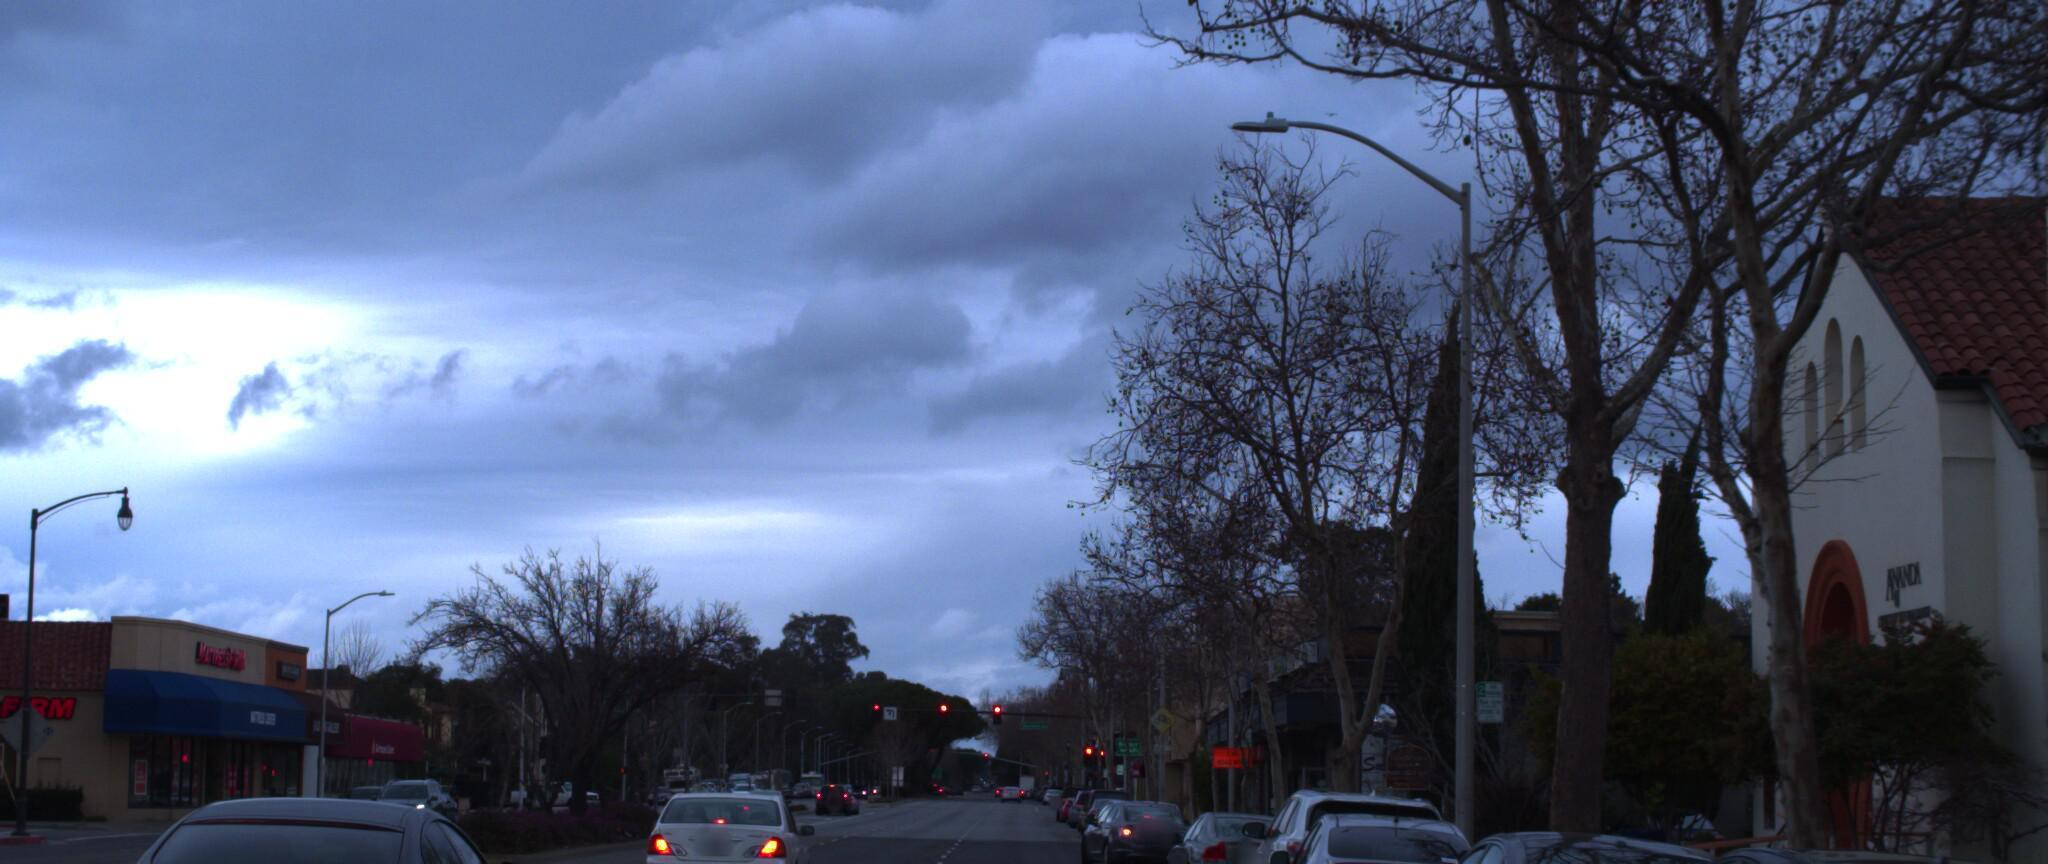car: (5, 754, 541, 864), (1366, 804, 1839, 864), (1226, 775, 1496, 864), (610, 758, 822, 864), (1550, 824, 2048, 864), (1259, 800, 1526, 864), (1156, 801, 1330, 864), (1064, 786, 1181, 864)
